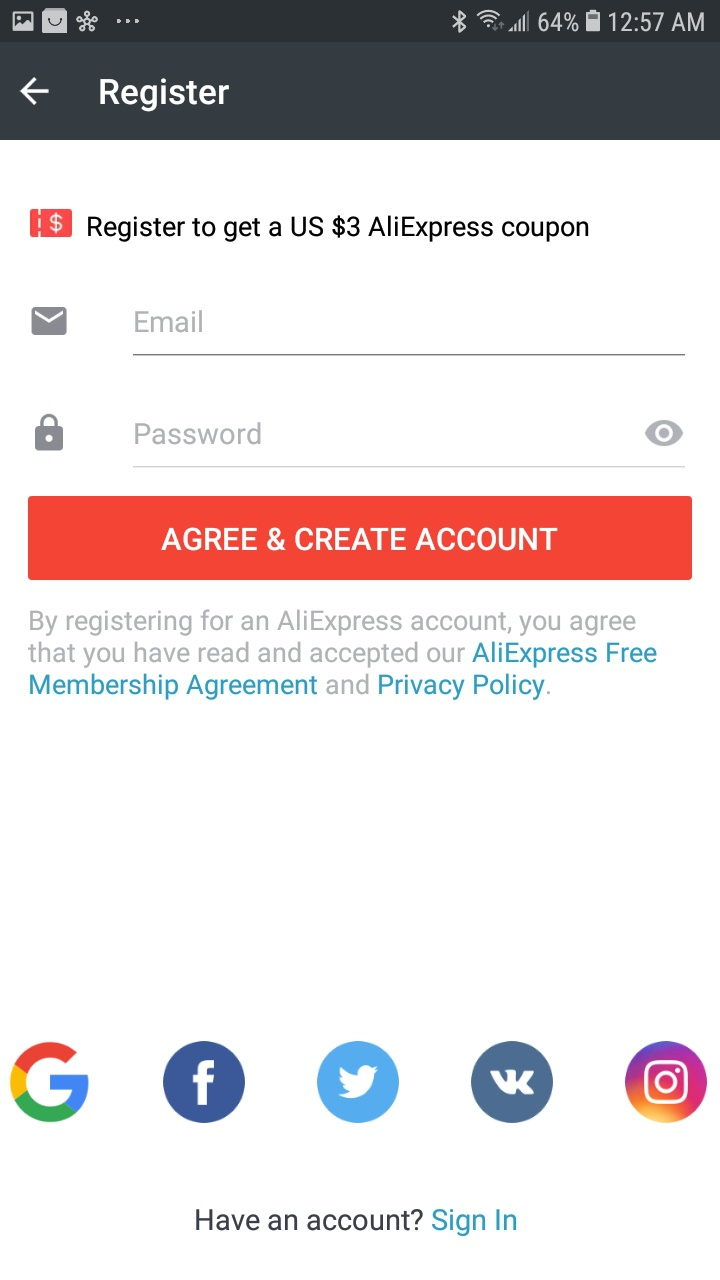EditText: (133, 420, 685, 469), (134, 310, 685, 357)
Icon: (163, 1040, 246, 1124), (317, 1041, 400, 1124), (10, 1041, 90, 1123), (30, 209, 74, 238), (35, 414, 65, 452), (645, 420, 684, 447), (32, 307, 68, 336), (20, 77, 50, 107)
Image: (471, 1041, 554, 1124), (625, 1041, 708, 1124)
Text: (28, 609, 657, 701), (88, 215, 589, 243), (196, 1209, 517, 1237), (100, 78, 230, 113), (136, 422, 262, 446), (135, 310, 203, 334)
TextButton: (29, 496, 693, 581)
UpperTaskBar: (1, 1, 720, 43)
